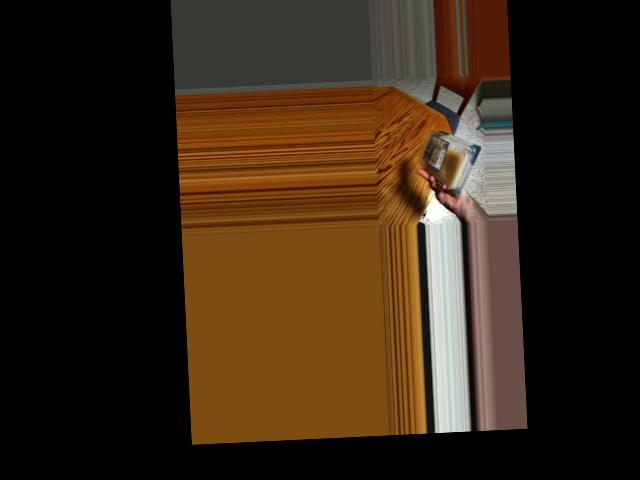cheese: (418, 124, 475, 194)
